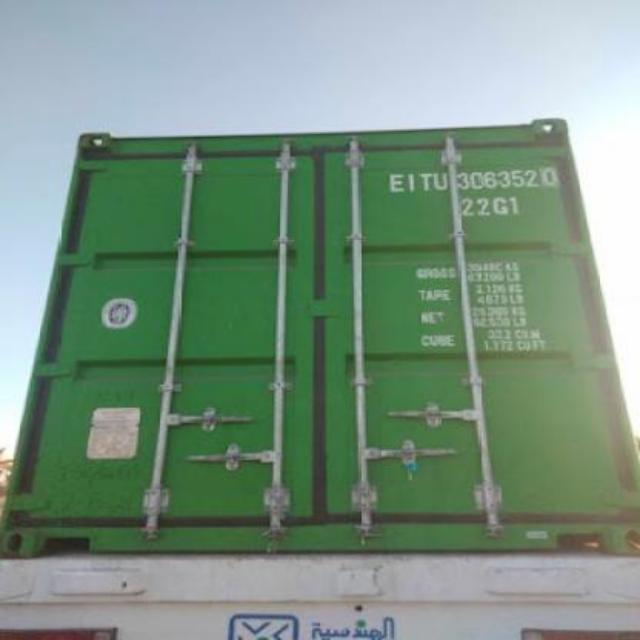0: (538, 161, 558, 191), (468, 167, 484, 196)
2: (524, 162, 540, 194)
3: (496, 164, 512, 192), (454, 167, 468, 196)
5: (511, 162, 524, 194)
6: (482, 164, 496, 193)
E: (386, 170, 404, 197)
I: (402, 167, 416, 197)
T: (416, 168, 434, 200)
U: (432, 167, 450, 200)
